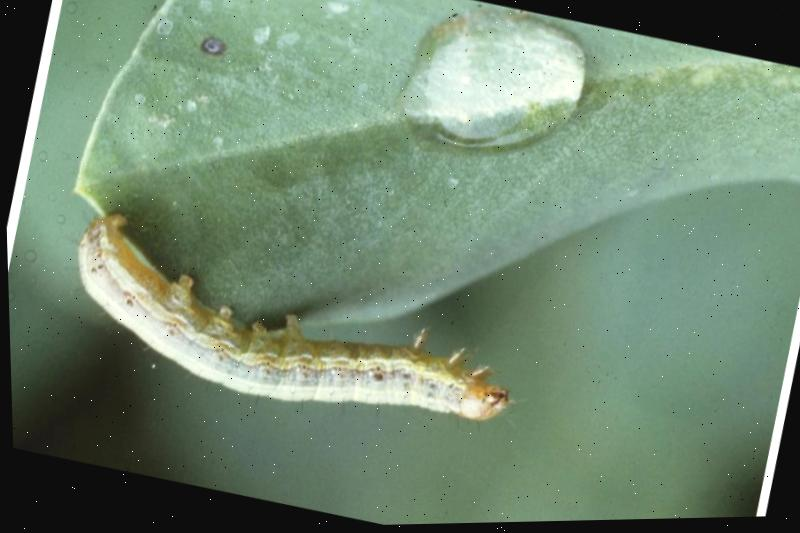fall-armyworm: (77, 214, 509, 423)
